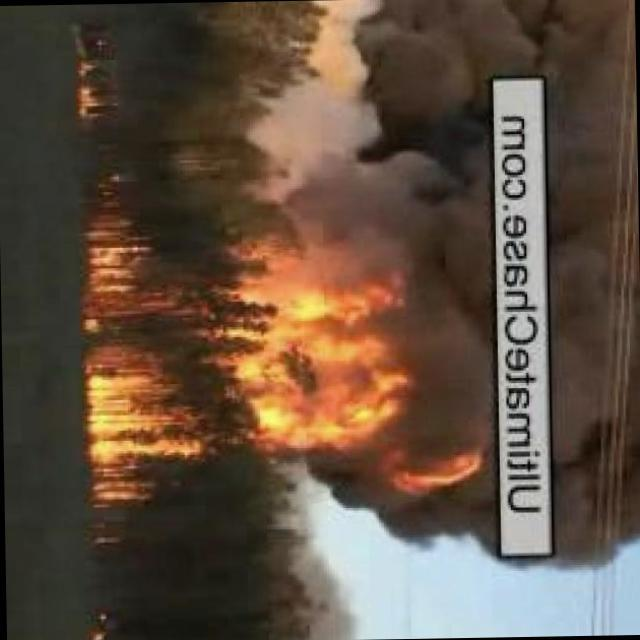Fire: (245, 251, 487, 493), (82, 196, 212, 504), (75, 48, 118, 131)
